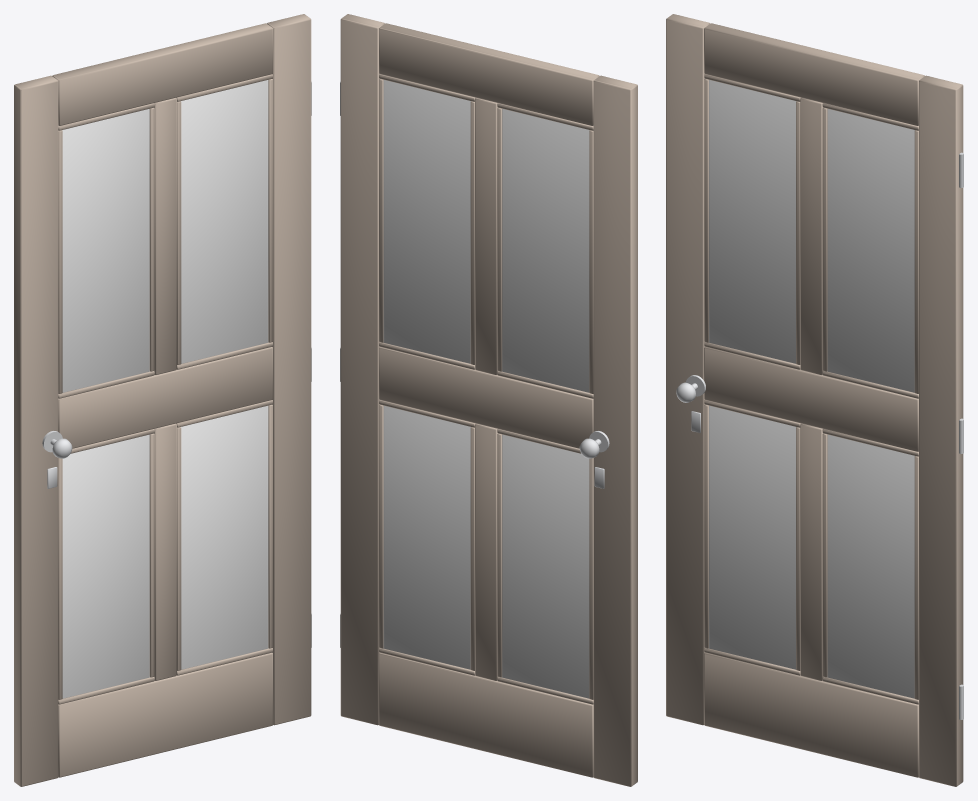
File: KurodaHome_Door.fbx
3 renders of one model, left to right at view 1: azimuth 30°, elevation 25°; view 2: azimuth 150°, elevation 25°; view 3: azimuth 330°, elevation 25°, orthographic.
Parts seen in each view (by area): view 1: KurodaHome_Door; view 2: KurodaHome_Door; view 3: KurodaHome_Door.
Boxes of the visible parts, x1,y1,x2,y2 form: KurodaHome_Door: (14, 14, 311, 786); KurodaHome_Door: (340, 14, 637, 786); KurodaHome_Door: (666, 14, 963, 786).
Bounding box in the file's own units: 0.927 × 2.1 × 0.198.
